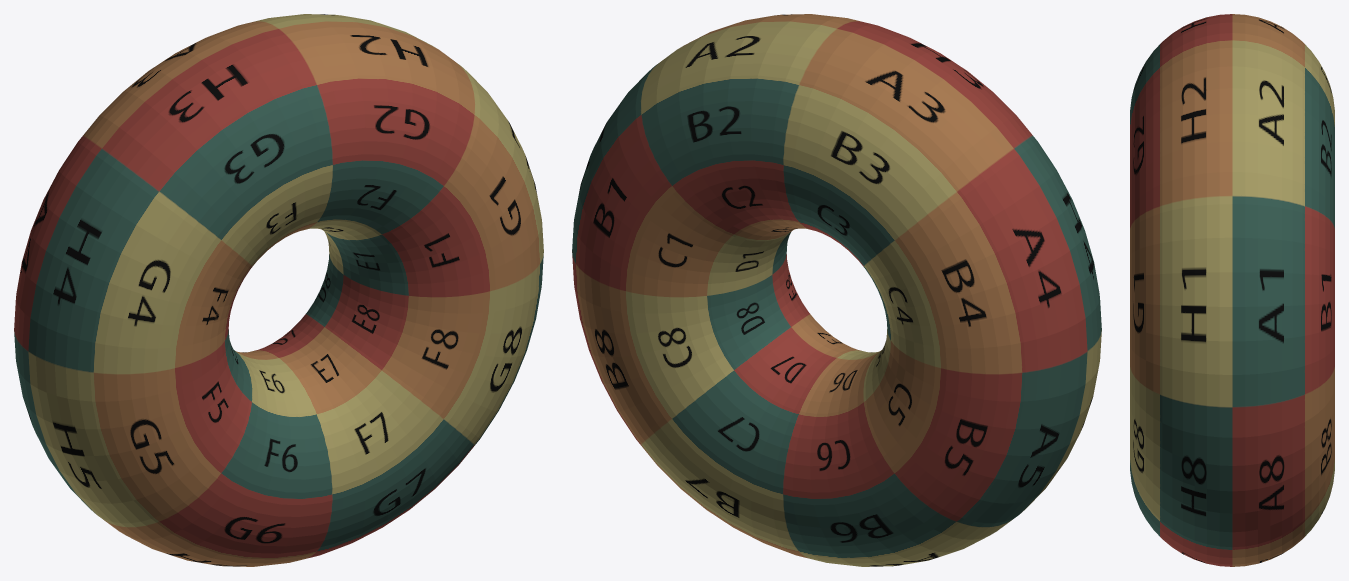
The model's file is texture_torus_R5_r22.glb.
3 renders of one model, left to right at view 1: azimuth 30°, elevation 25°; view 2: azimuth 150°, elevation 25°; view 3: azimuth 270°, elevation 25°, orthographic. The views are drawn at different scales.
Visible parts, largest first — view 1: world; view 2: world; view 3: world.
Boxes of the visible parts, <box> form: world: <box>14,14,543,566</box>; world: <box>572,14,1101,566</box>; world: <box>1130,14,1334,566</box>.
Size of the model in its own units: 21.2 by 21.16 by 7.85.
Materials: 1 (1 with a texture image).
